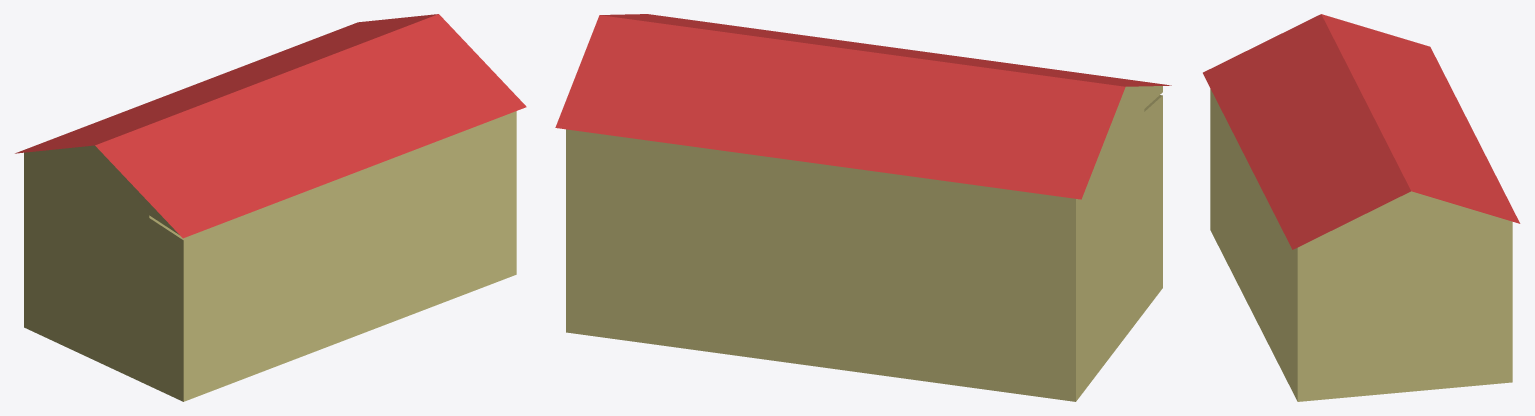
The picture shows the model from 3 angles, left to right: view 1: azimuth 30°, elevation 25°; view 2: azimuth 150°, elevation 25°; view 3: azimuth 270°, elevation 25°; orthographic projection. The views are drawn at different scales.
Bounding box in the file's own units: 17.61 × 11.96 × 8.43.
